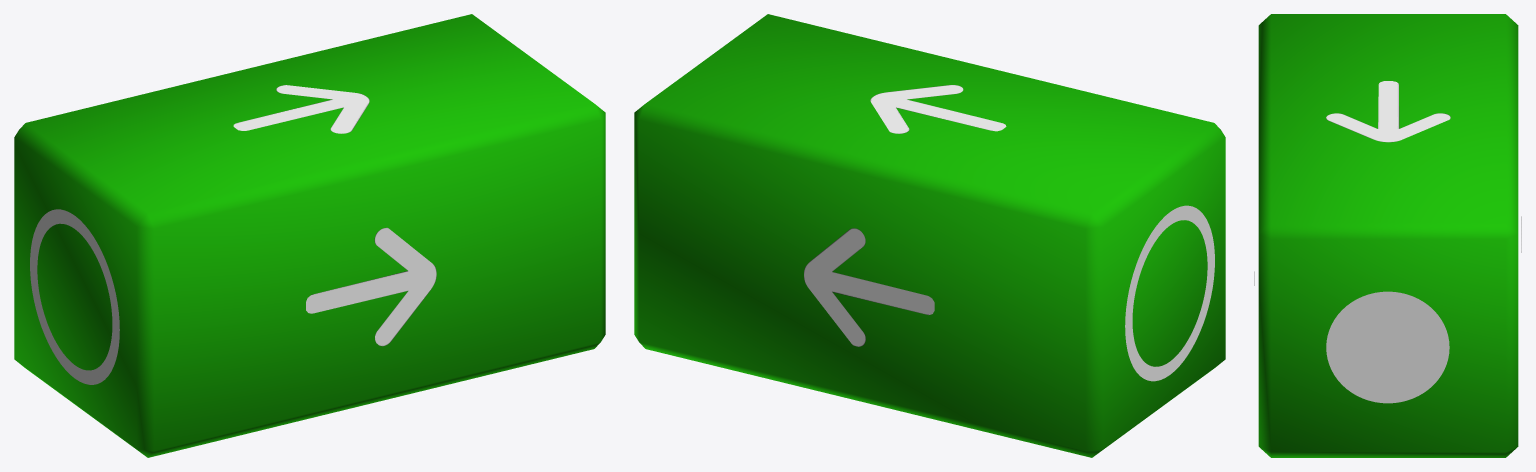
File: BigBoxTapFlowBox_1_1_2_Clean_test2.fbx
3 renders of one model, left to right at view 1: azimuth 30°, elevation 25°; view 2: azimuth 150°, elevation 25°; view 3: azimuth 270°, elevation 25°, orthographic. The views are drawn at different scales.
Parts seen in each view (by area): view 1: BigBoxTapFlowBox_1_1_2_Clean_test; view 2: BigBoxTapFlowBox_1_1_2_Clean_test; view 3: BigBoxTapFlowBox_1_1_2_Clean_test.
Boxes of the visible parts, <box> form: BigBoxTapFlowBox_1_1_2_Clean_test: <box>14,14,605,457</box>; BigBoxTapFlowBox_1_1_2_Clean_test: <box>634,14,1225,457</box>; BigBoxTapFlowBox_1_1_2_Clean_test: <box>1254,14,1521,457</box>.
Size of the model in its own units: 2.11 by 1.07 by 1.08.
